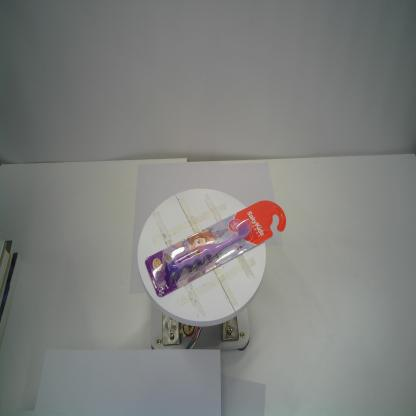Personal Hygiene: (144, 200, 286, 298)
